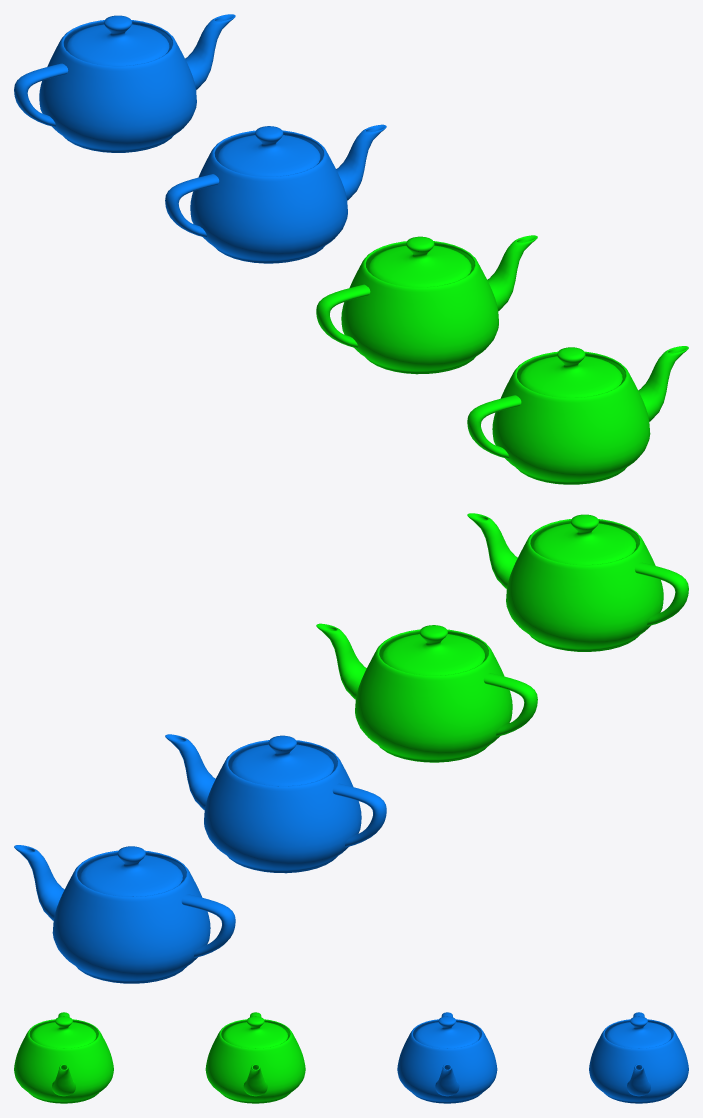
The model's file is MaterialTest.fbx.
3 renders of one model, top to bottom at view 1: azimuth 30°, elevation 25°; view 2: azimuth 150°, elevation 25°; view 3: azimuth 270°, elevation 25°, orthographic. The views are drawn at different scales.
Visible parts, largest first — view 1: Teapot_orange003, Teapot_orange, Teapot_orange002, Teapot_orange001; view 2: Teapot_orange, Teapot_orange003, Teapot_orange001, Teapot_orange002; view 3: Teapot_orange, Teapot_orange003, Teapot_orange001, Teapot_orange002.
Part boxes in pixels (<box>): Teapot_orange003: <box>467,346,688,484</box>; Teapot_orange: <box>14,14,235,152</box>; Teapot_orange002: <box>316,235,537,374</box>; Teapot_orange001: <box>165,124,386,263</box>; Teapot_orange: <box>14,845,235,983</box>; Teapot_orange003: <box>467,513,688,651</box>; Teapot_orange001: <box>165,734,386,873</box>; Teapot_orange002: <box>316,623,537,762</box>; Teapot_orange: <box>589,1012,688,1103</box>; Teapot_orange003: <box>14,1012,113,1103</box>; Teapot_orange001: <box>397,1012,497,1103</box>; Teapot_orange002: <box>205,1012,305,1103</box>.
Size of the model in its own units: 227 by 111 by 954.
